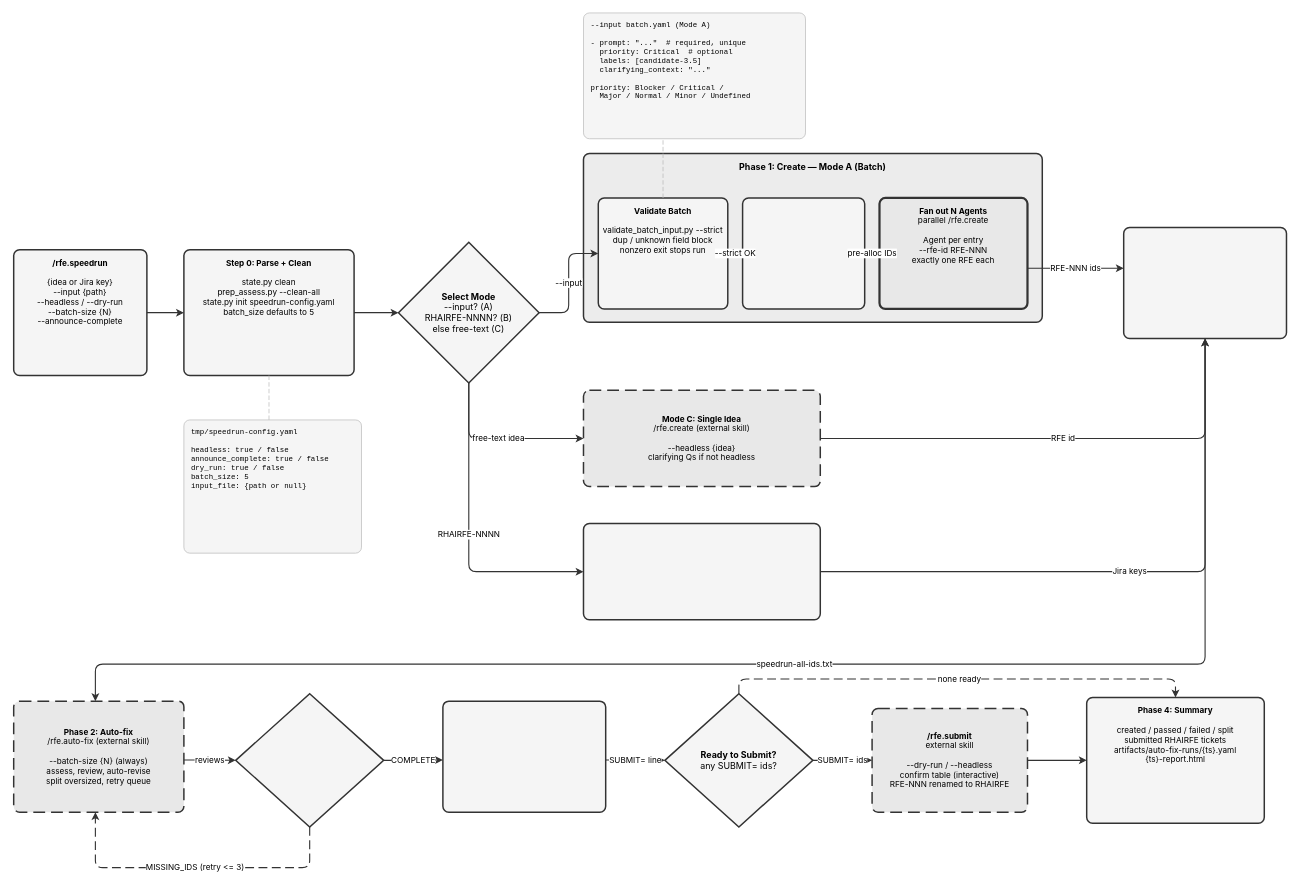
Some shapes in this 1299 by 887 pixel diagram are drawn without their labels. The centre of each missing label's shape, as x and y in pixels:
Check Complete check_autofix_complete.py every RFE reviewed?: point 309,760
Mode B: Existing RFE arg is RHAIRFE-NNNN key skip create keys become the list: point 701,571
Persist ID List state.py write-ids speedrun-all-ids.txt dedup, one per line: point 1205,282
Phase 3: Collect collect_recommendations.py SUBMIT= / REASSESS= / ERRORS=: point 524,756
Pre-allocate IDs next_rfe_id.py --from-batch one RFE-NNN per entry: point 803,253
